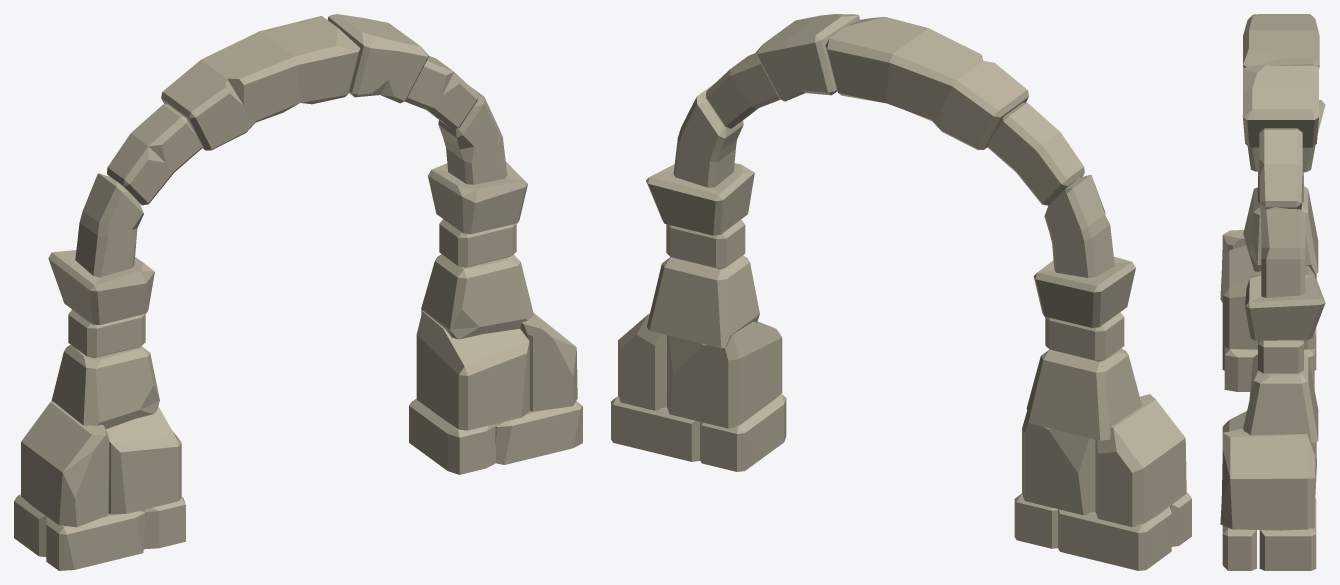
File: stonegate.fbx
3 views of the same model, side by side, from view 1: azimuth 30°, elevation 25°; view 2: azimuth 150°, elevation 25°; view 3: azimuth 270°, elevation 25° (orthographic). The views are drawn at different scales.
Visible parts, largest first — view 1: ark; view 2: ark; view 3: ark.
Boxes of the visible parts, x1=… form: ark: x1=14, y1=14, x2=582, y2=570; ark: x1=611, y1=14, x2=1191, y2=570; ark: x1=1220, y1=14, x2=1325, y2=570.
Bounding box in the file's own units: 6.22 × 5.06 × 1.16.
